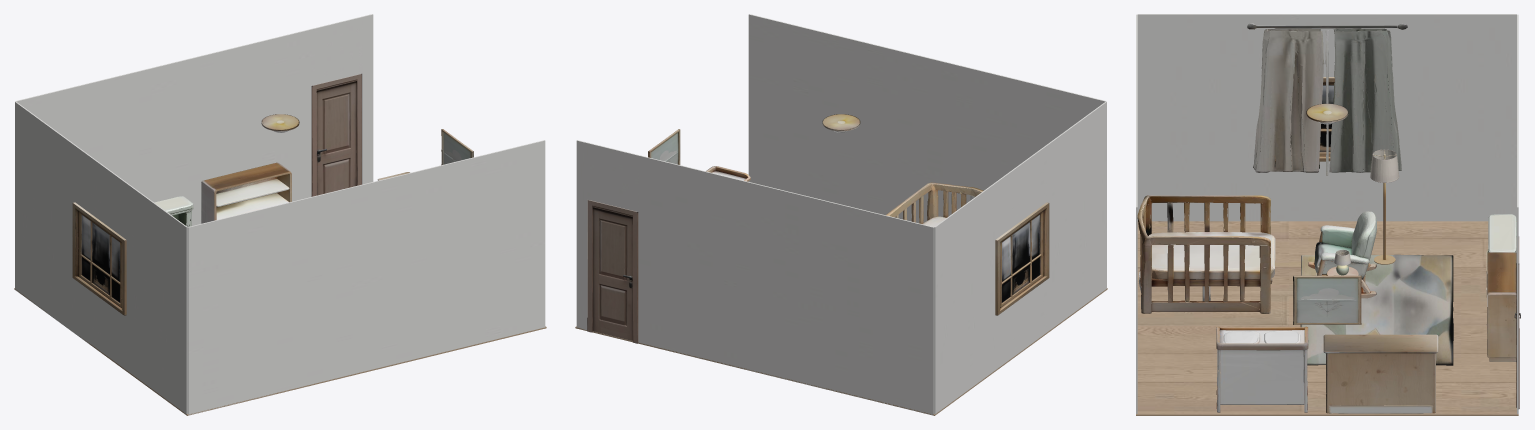
Rendered from text-functional-babyroom.glb.
3 renders of one model, left to right at view 1: azimuth 30°, elevation 25°; view 2: azimuth 150°, elevation 25°; view 3: azimuth 270°, elevation 25°, orthographic. The views are drawn at different scales.
Visible parts, largest first — view 1: wall_north_01, wall_south_03, wall_east_04, wall_east_01, geometry_0, geometry_0.001, geometry_0.009, wall_east_03, wall_south_02, wall_east_02, wall_south_01, floor_01 (+3 smaller); view 2: wall_south_03, wall_north_01, wall_east_01, wall_east_04, geometry_0, geometry_0.001, wall_east_03, wall_south_02, wall_east_02, wall_south_01, geometry_0.005, floor_01 (+2 smaller); view 3: floor_01, wall_east_01, wall_east_04, geometry_0.003, geometry_0.005, geometry_0.008, geometry_0.013, geometry_0.007, wall_east_02, geometry_0.004, geometry_0.009, geometry_0.006 (+8 smaller).
Boxes of the visible parts, <box> form: wall_north_01: <box>187,140,545,415</box>; wall_south_03: <box>15,29,311,225</box>; wall_east_04: <box>126,183,187,414</box>; wall_east_01: <box>15,101,75,333</box>; geometry_0: <box>311,73,361,196</box>; geometry_0.001: <box>72,202,126,315</box>; geometry_0.009: <box>201,162,291,223</box>; wall_east_03: <box>75,145,127,239</box>; wall_south_02: <box>311,16,362,85</box>; wall_east_02: <box>75,280,126,369</box>; wall_south_01: <box>362,14,373,184</box>; floor_01: <box>14,288,546,415</box>; wall_south_03: <box>638,155,934,415</box>; wall_north_01: <box>748,14,1106,223</box>; wall_east_01: <box>934,183,995,414</box>; wall_east_04: <box>1046,101,1106,332</box>; geometry_0: <box>587,200,638,343</box>; geometry_0.001: <box>995,202,1049,315</box>; wall_east_03: <box>994,145,1046,239</box>; wall_south_02: <box>587,142,638,211</box>; wall_east_02: <box>995,280,1046,369</box>; wall_south_01: <box>576,140,587,330</box>; geometry_0.005: <box>885,182,983,226</box>; floor_01: <box>575,288,1107,415</box>; floor_01: <box>1136,221,1518,415</box>; wall_east_01: <box>1384,14,1516,221</box>; wall_east_04: <box>1137,14,1269,221</box>; geometry_0.003: <box>1247,23,1407,175</box>; geometry_0.005: <box>1137,195,1275,313</box>; geometry_0.008: <box>1323,334,1438,413</box>; geometry_0.013: <box>1300,254,1453,365</box>; geometry_0.007: <box>1216,326,1308,412</box>; wall_east_02: <box>1270,161,1383,221</box>; geometry_0.004: <box>1293,275,1361,324</box>; geometry_0.009: <box>1486,252,1516,361</box>; geometry_0.006: <box>1308,211,1376,298</box>.
Size of the model in its own units: 6.04 by 3 by 5.03.
Materials: 24 (24 with a texture image).
